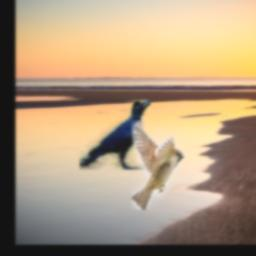Crow: (80, 100, 150, 170)
Sparrow: (132, 121, 183, 211)
